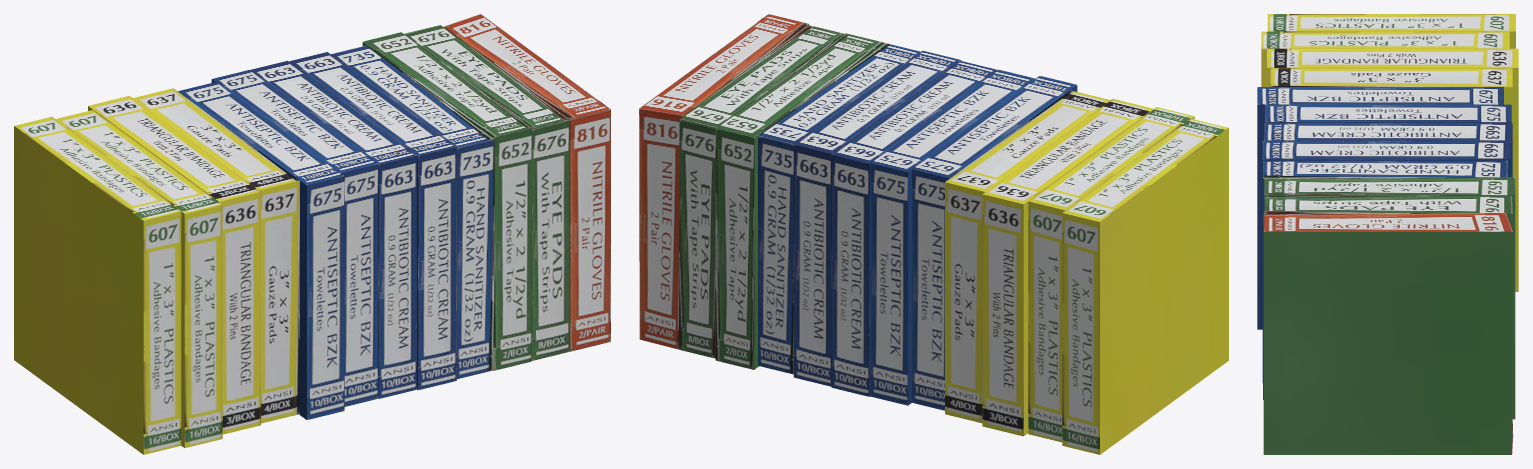
Rendered from SM_Medicamentos1.fbx.
3 renders of one model, left to right at view 1: azimuth 30°, elevation 25°; view 2: azimuth 150°, elevation 25°; view 3: azimuth 270°, elevation 25°, orthographic. The views are drawn at different scales.
Visible parts, largest first — view 1: FirstAidSupply.021; view 2: FirstAidSupply.021; view 3: FirstAidSupply.021.
Boxes of the visible parts, <box> form: FirstAidSupply.021: <box>14,14,610,454</box>; FirstAidSupply.021: <box>639,14,1228,454</box>; FirstAidSupply.021: <box>1257,14,1518,454</box>.
Bounding box in the file's own units: 13.07 × 6.31 × 6.64.
1 material, 1 textured.
